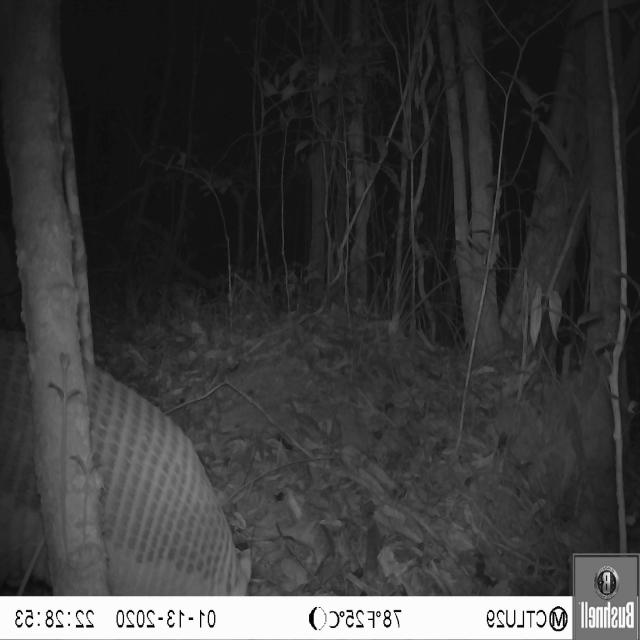Armadillo: (0, 304, 265, 595)
